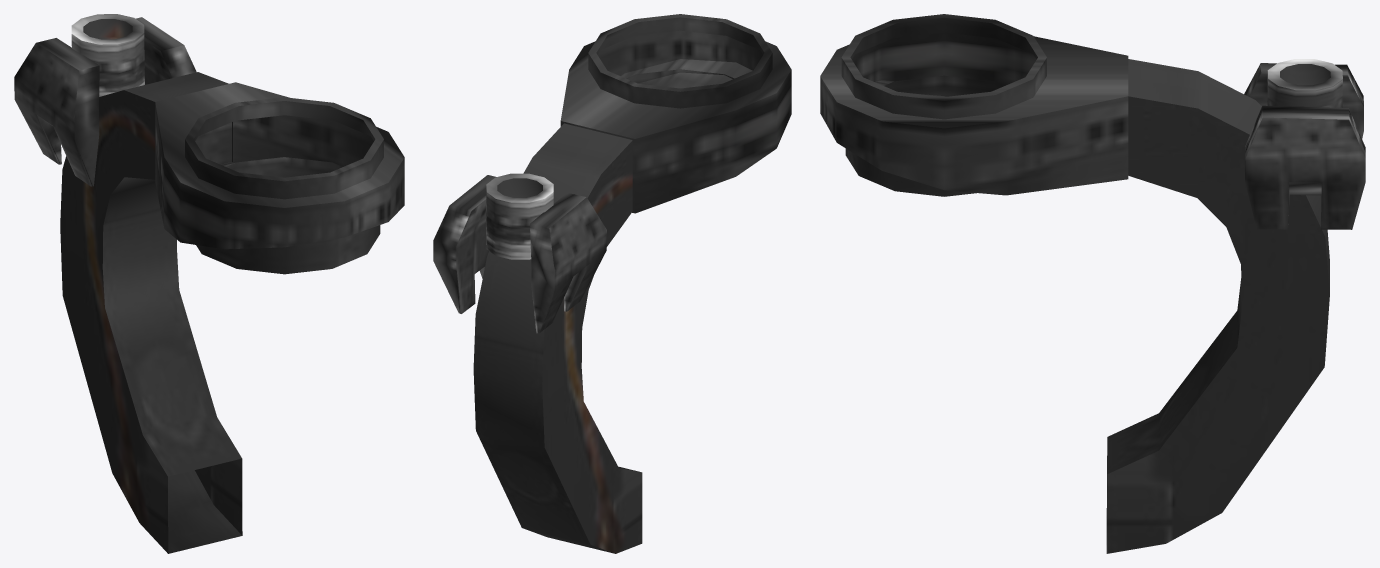
File: Body_SteerRightRear.dae
The picture shows the model from 3 angles, left to right: view 1: azimuth 30°, elevation 25°; view 2: azimuth 150°, elevation 25°; view 3: azimuth 270°, elevation 25°; orthographic projection. The views are drawn at different scales.
Visible parts, largest first — view 1: suspension_steer_B_R; view 2: suspension_steer_B_R; view 3: suspension_steer_B_R.
Part boxes in pixels (left/top/right/bottom): suspension_steer_B_R: left=14, top=14, right=404, bottom=553; suspension_steer_B_R: left=433, top=14, right=791, bottom=553; suspension_steer_B_R: left=820, top=14, right=1365, bottom=553.
Size of the model in its own units: 0.2102 by 0.4622 by 0.4469.
2 materials, 2 textured.
